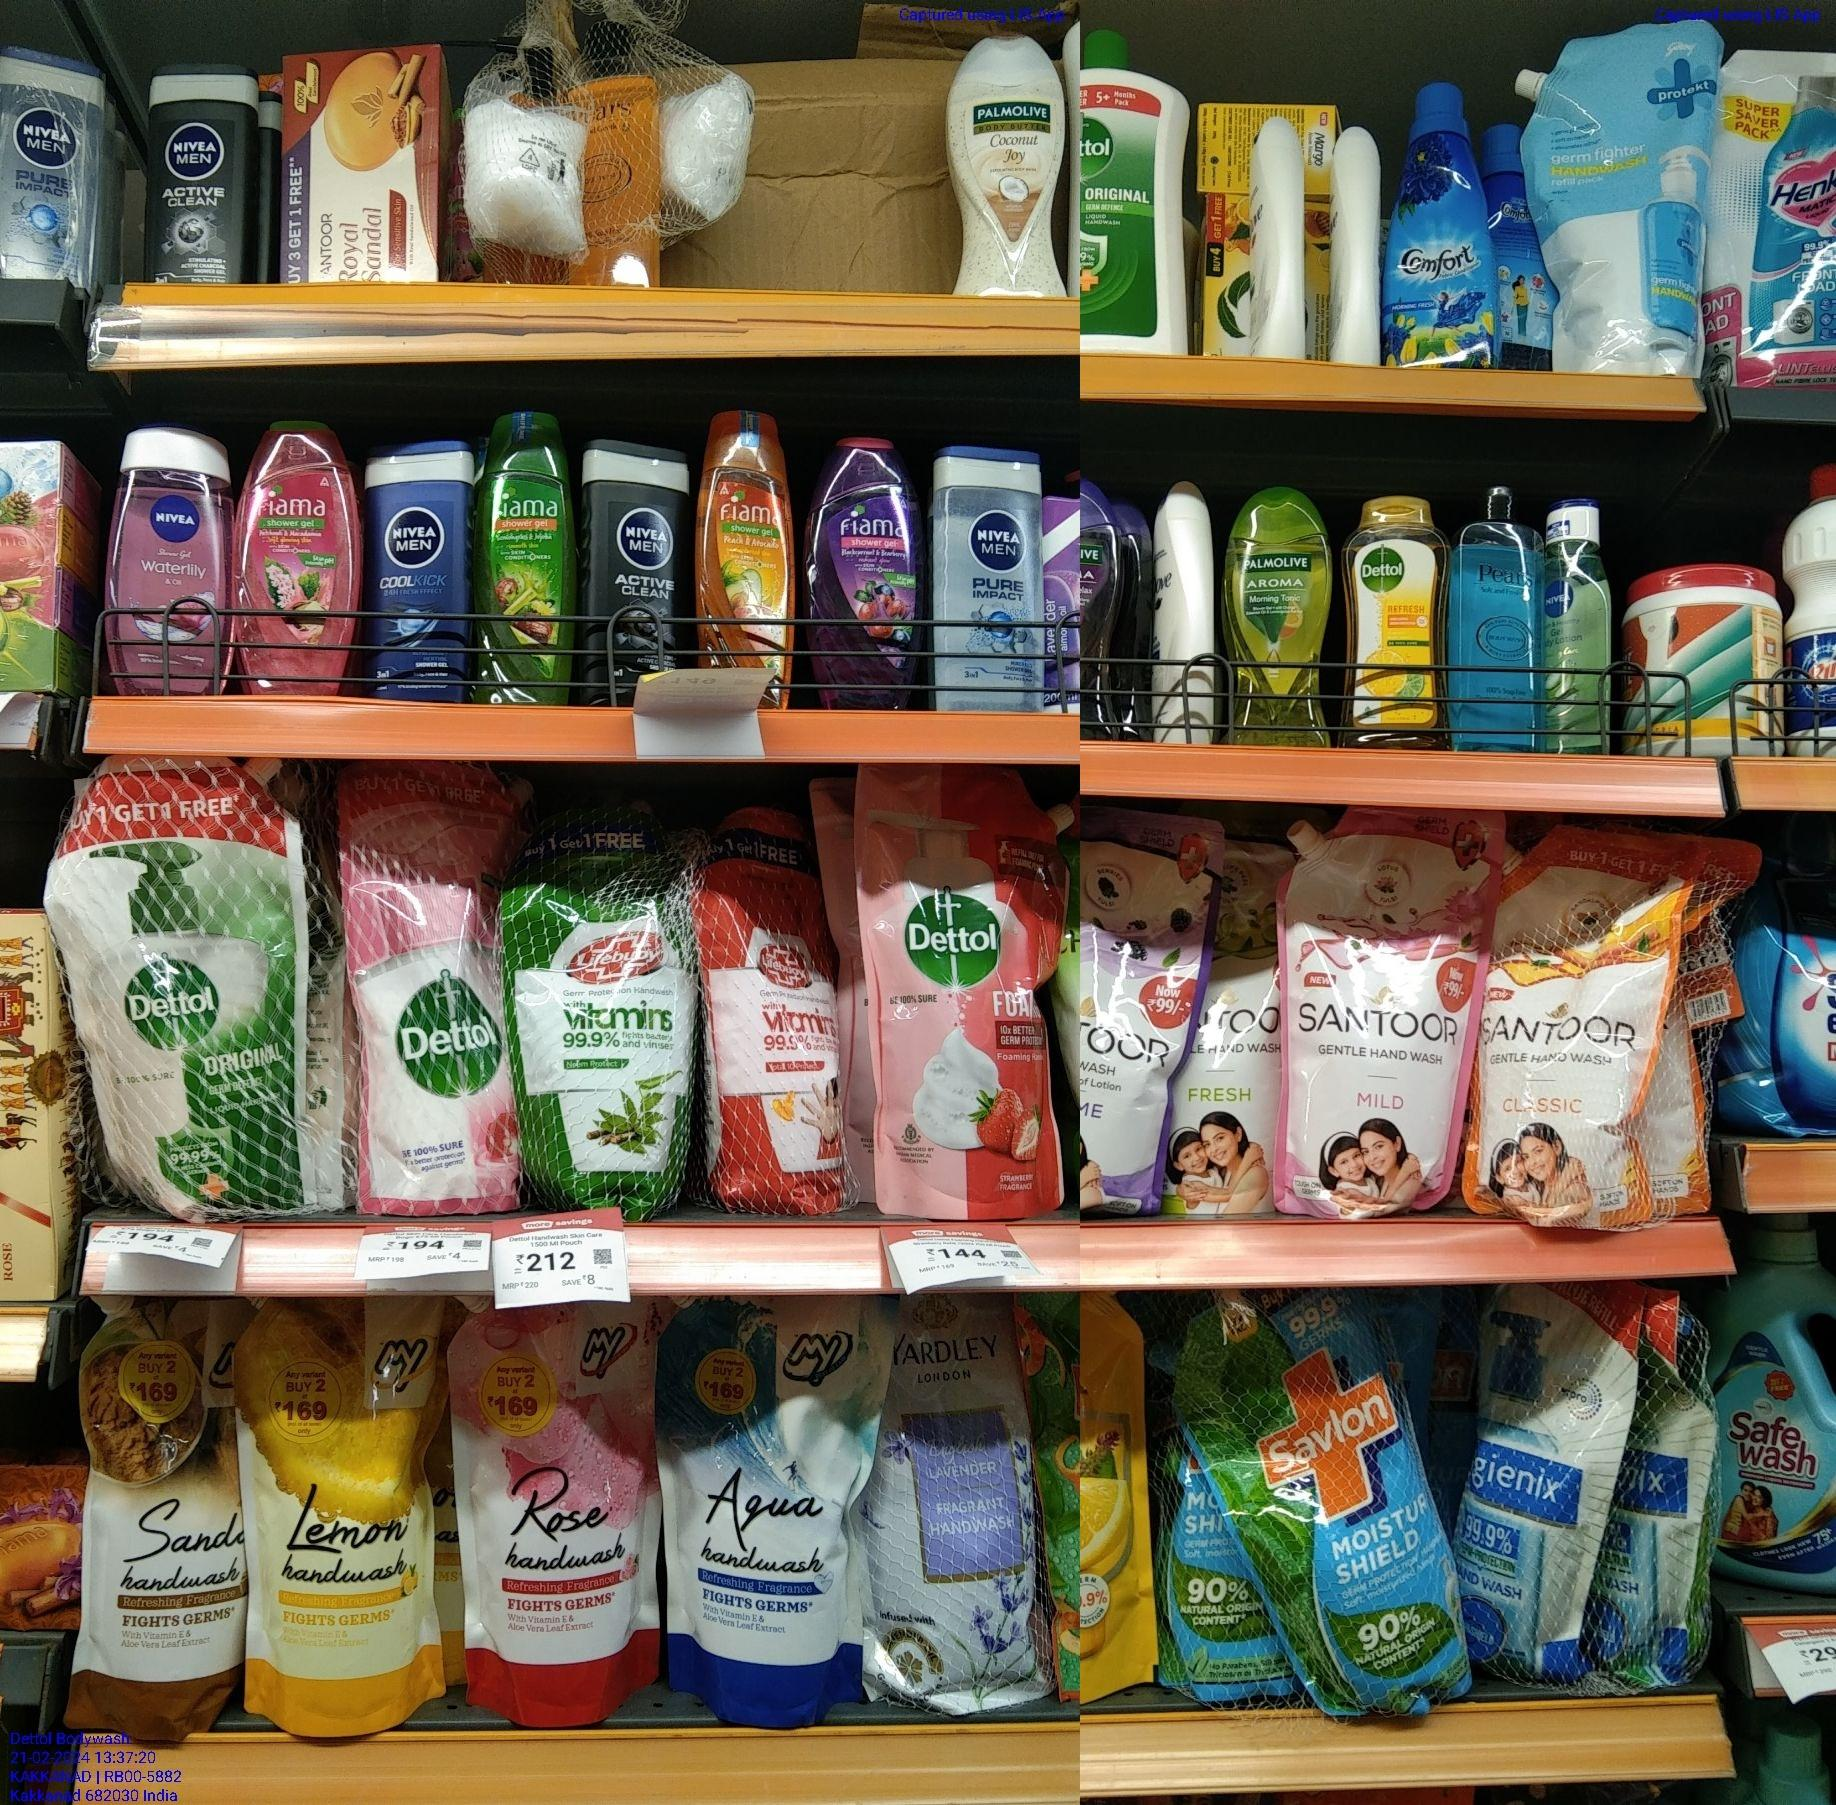Dettol_Bodywash_Refresh: (1337, 491, 1449, 747)
Fiama_Shower_Gel_Patchouli_and_Macadamia_250ML: (233, 413, 360, 694)
Nivea_Shower_Gel_Waterlily_and_Oil_250ML: (101, 420, 233, 694)
Palmolive_Aroma_Morning_Tonic_Shower_Gel_250ML: (1220, 483, 1332, 747)
Palmolive_Coconut_Joy_Exfoliating_Body_Wash_250ML: (942, 30, 1069, 299)
Pears_Pure_Glycerin_and_Mint_Extracts_Body_Wash_250ML: (1449, 481, 1545, 750)
